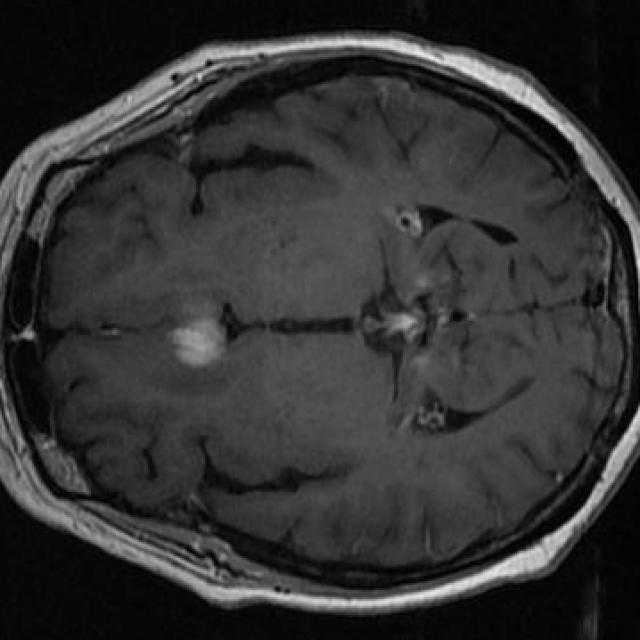meningioma: (173, 316, 226, 365)
